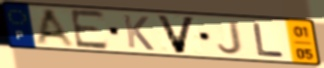A: (34, 8, 79, 50)
E: (68, 8, 111, 51)
J: (216, 20, 244, 56)
K: (121, 13, 157, 52)
L: (251, 22, 287, 58)
V: (154, 13, 199, 55)
